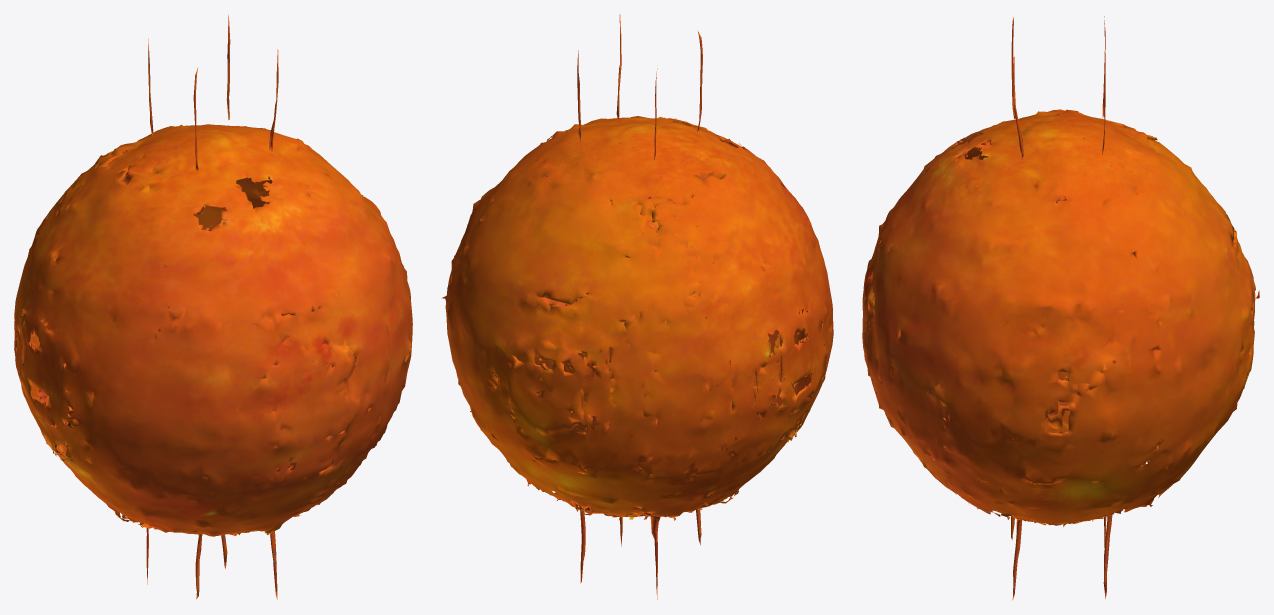
File: Sun_0718001137_texture.fbx
3 views of the same model, side by side, from view 1: azimuth 30°, elevation 25°; view 2: azimuth 150°, elevation 25°; view 3: azimuth 270°, elevation 25° (orthographic). The views are drawn at different scales.
Visible parts, largest first — view 1: Mesh_0; view 2: Mesh_0; view 3: Mesh_0.
Boxes of the visible parts, x1=… form: Mesh_0: x1=14, y1=15, x2=412, y2=599; Mesh_0: x1=441, y1=14, x2=833, y2=599; Mesh_0: x1=862, y1=16, x2=1259, y2=600.
Bounding box in the file's own units: 113 × 168 × 110.
1 material, 1 textured.
